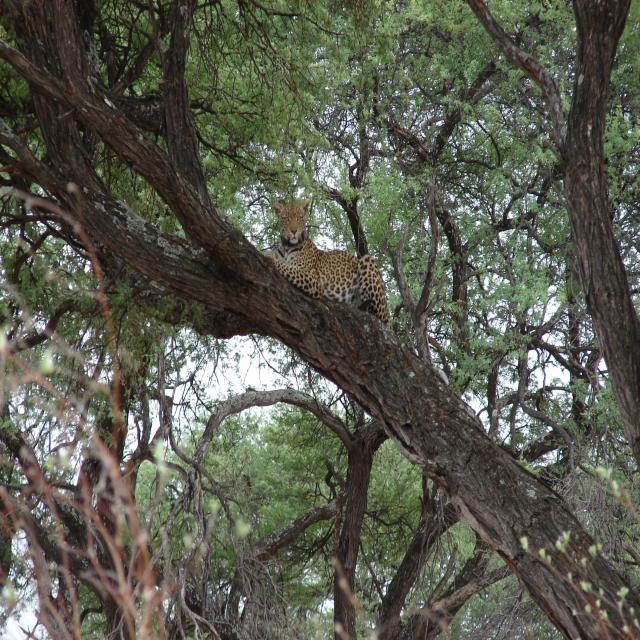Leopard: (262, 197, 389, 400)
